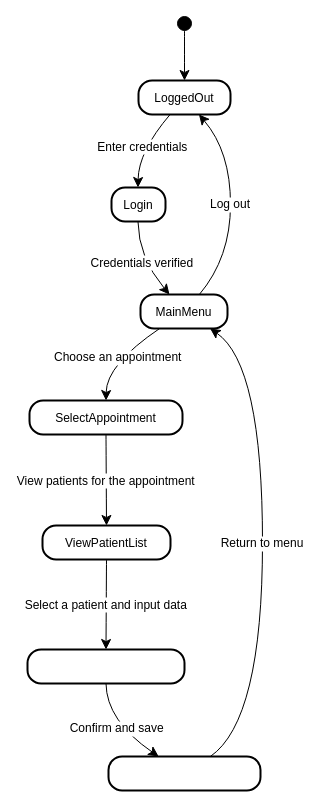
Image size: 321x807. Some labels were removed from this diagram. The box of each missing label's shape, as (x1, y1, x2, y2) in pixels:
InputMedicalRecord: (26, 648, 185, 684)
SaveMedicalRecord: (107, 755, 261, 791)
